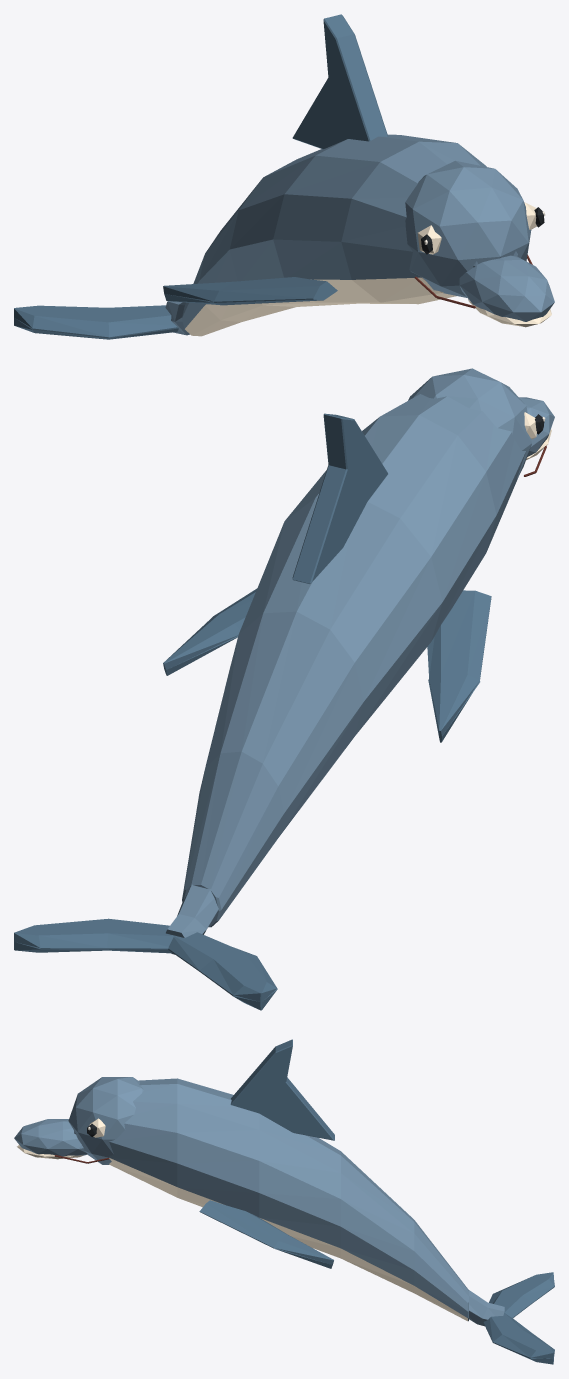
Rendered from leaping-dolphin.glb.
3 views of the same model, one above another, from view 1: azimuth 30°, elevation 25°; view 2: azimuth 150°, elevation 25°; view 3: azimuth 270°, elevation 25° (orthographic). The views are drawn at different scales.
Parts seen in each view (by area): view 1: Leaping Dolphin geometry Body, Leaping Dolphin geometry Tail, Leaping Dolphin geometry Fin left; view 2: Leaping Dolphin geometry Body, Leaping Dolphin geometry Tail, Leaping Dolphin geometry Fin left, Leaping Dolphin geometry Fin right; view 3: Leaping Dolphin geometry Body, Leaping Dolphin geometry Tail, Leaping Dolphin geometry Fin right.
Part boxes in pixels (box(x1,y1,x2,y2)): Leaping Dolphin geometry Body: box(182, 14, 554, 336); Leaping Dolphin geometry Tail: box(14, 301, 189, 339); Leaping Dolphin geometry Fin left: box(163, 277, 337, 305); Leaping Dolphin geometry Body: box(182, 368, 554, 927); Leaping Dolphin geometry Tail: box(14, 884, 277, 1010); Leaping Dolphin geometry Fin left: box(427, 590, 491, 742); Leaping Dolphin geometry Fin right: box(163, 588, 256, 675); Leaping Dolphin geometry Body: box(14, 1039, 468, 1321); Leaping Dolphin geometry Tail: box(468, 1272, 554, 1364); Leaping Dolphin geometry Fin right: box(199, 1200, 333, 1268).
Bounding box in the file's own units: 0.7875 × 1.16 × 1.99.
